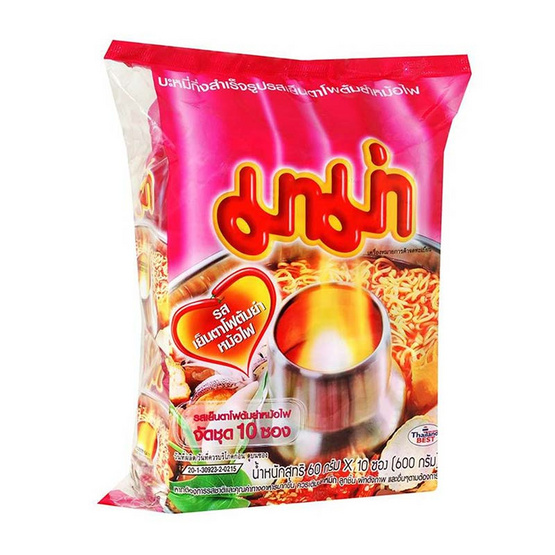Snack: (94, 36, 475, 515)
